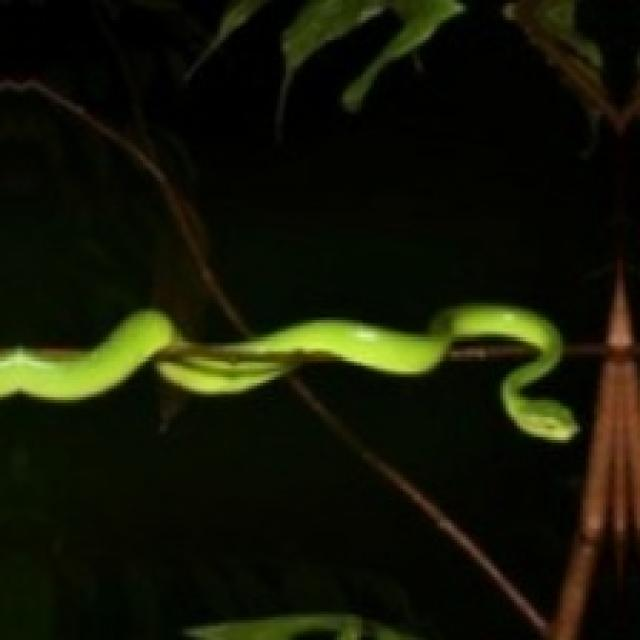north ph temple pitviper: (0, 303, 574, 440)
